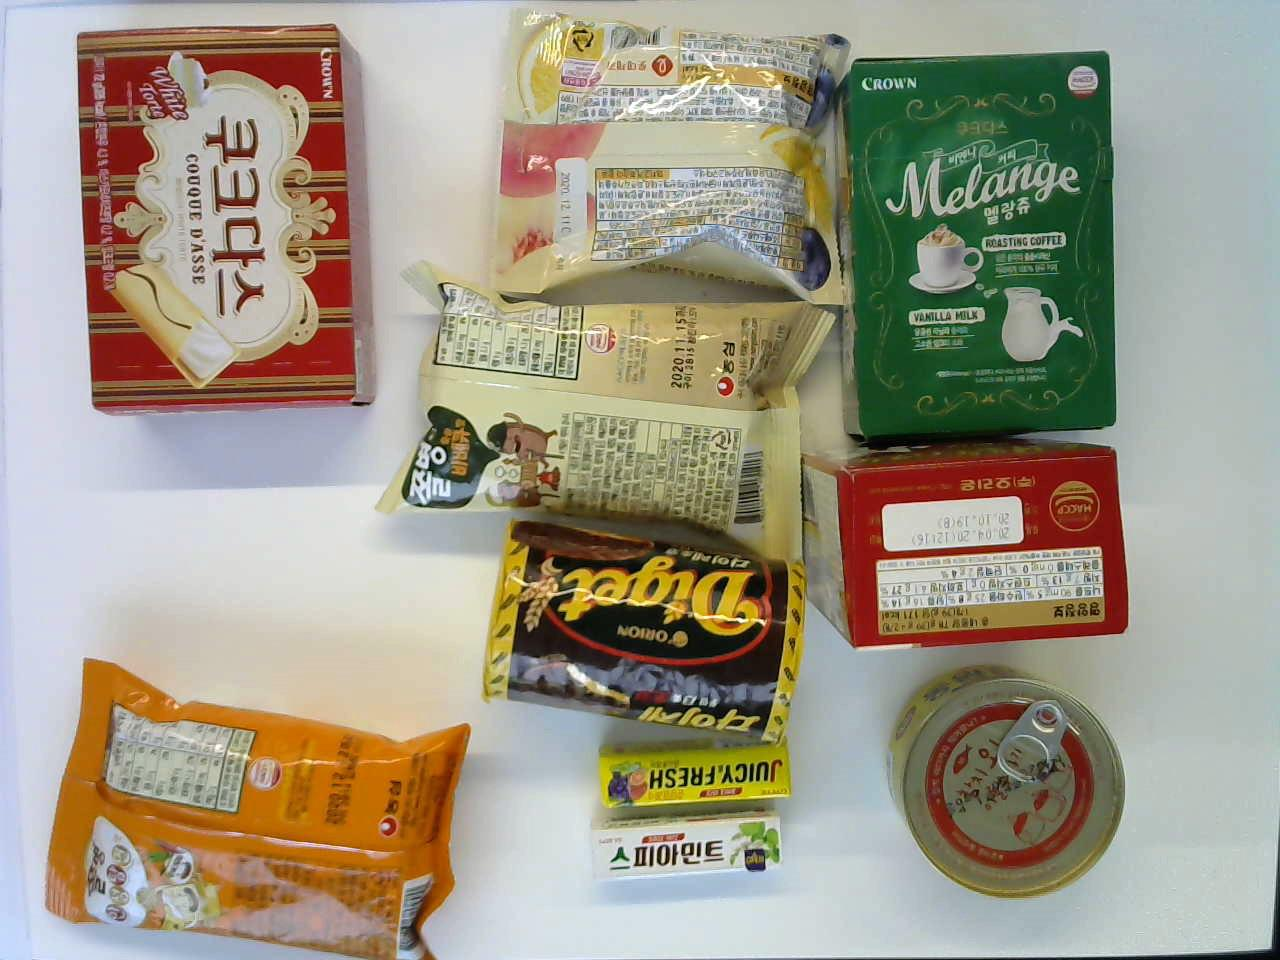chocopie: (785, 448, 1127, 649)
couque_coffee: (838, 50, 1110, 440)
couque_white: (65, 19, 374, 419)
diget_choco: (482, 523, 817, 734)
gumi_gumi: (497, 4, 844, 301)
jjolbyung_noodle: (35, 659, 465, 960)
jjolbyung_ori: (398, 259, 805, 553)
juicyfresh: (593, 736, 798, 819)
spearmint: (589, 807, 794, 889)
tuna: (881, 662, 1127, 898)
